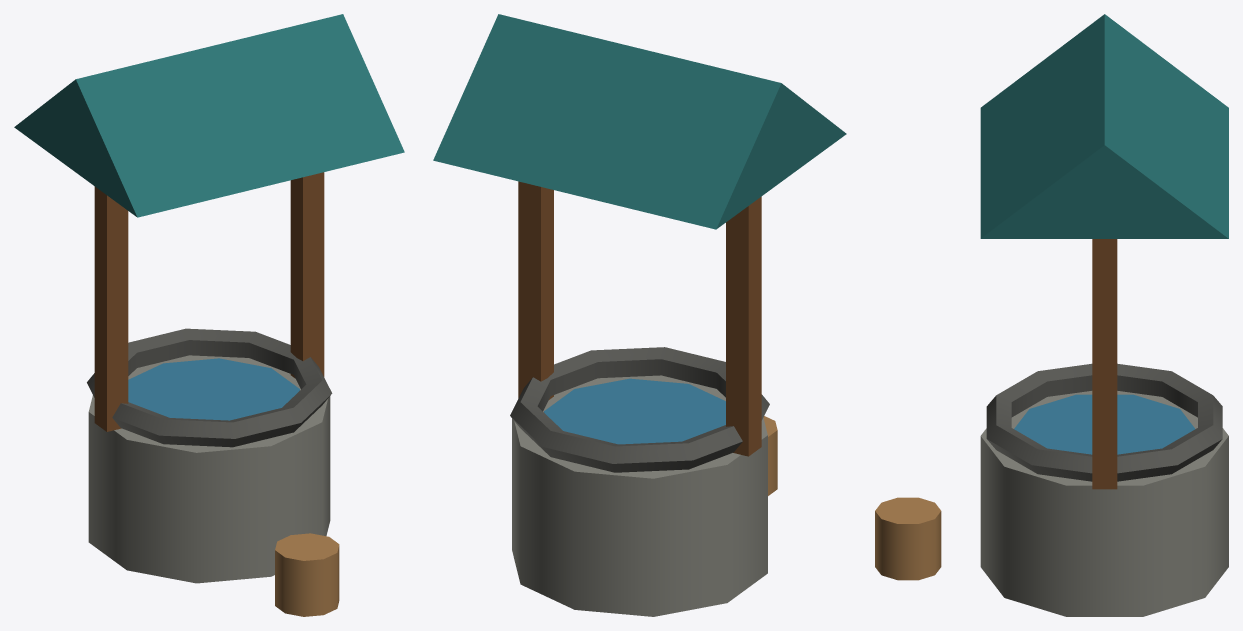
Rendered from kit-stone-well-with-roof-and-bucket.glb.
3 renders of one model, left to right at view 1: azimuth 30°, elevation 25°; view 2: azimuth 150°, elevation 25°; view 3: azimuth 270°, elevation 25°, orthographic. The views are drawn at different scales.
Visible parts, largest first — view 1: stone_well_with_roof_and_bucket; view 2: stone_well_with_roof_and_bucket; view 3: stone_well_with_roof_and_bucket.
Part boxes in pixels (box(x1,y1,x2,y2)): stone_well_with_roof_and_bucket: box(14, 14, 404, 616); stone_well_with_roof_and_bucket: box(433, 14, 846, 616); stone_well_with_roof_and_bucket: box(875, 14, 1228, 616).
Size of the model in its own units: 1.5 by 2.6 by 1.71.
